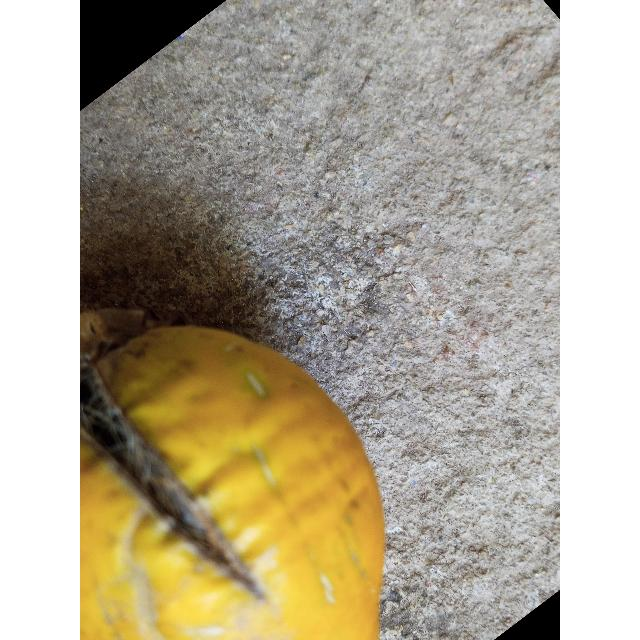damaged: (80, 314, 386, 640)
